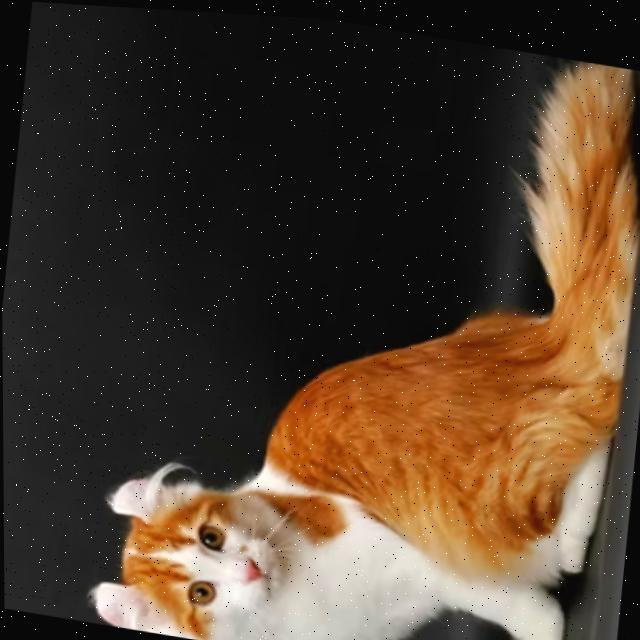American Curl: (76, 4, 640, 640)
